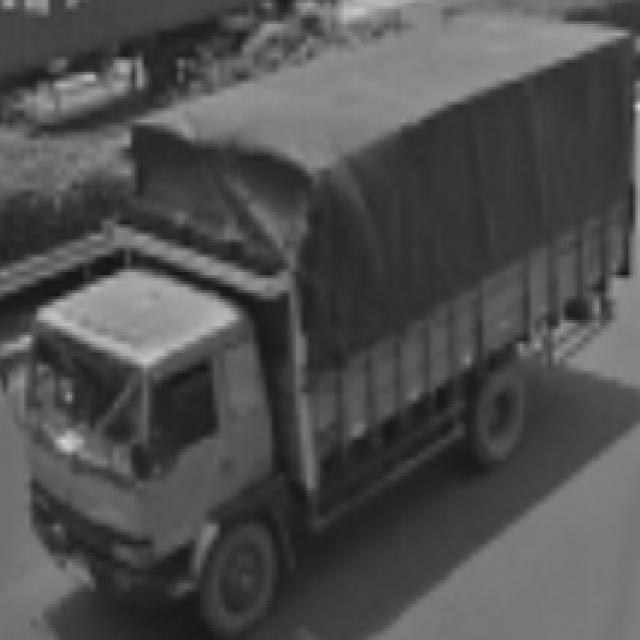truck: (1, 252, 314, 640)
